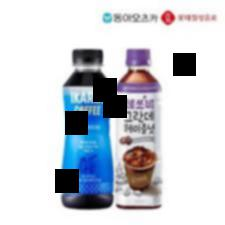letsbe_grande_hazelnut: (114, 46, 163, 211)
